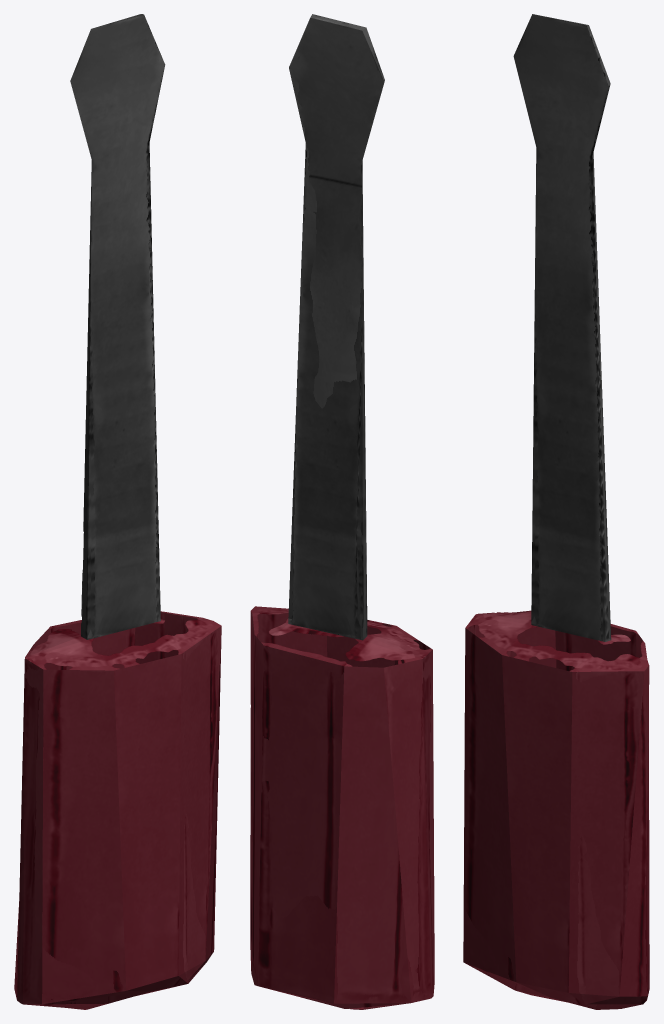
The model's file is ScrewDriver.fbx.
The picture shows the model from 3 angles, left to right: view 1: azimuth 30°, elevation 25°; view 2: azimuth 150°, elevation 25°; view 3: azimuth 330°, elevation 25°; orthographic projection.
Parts seen in each view (by area): view 1: Cube; view 2: Cube; view 3: Cube.
Part boxes in pixels (bbox=[...]): Cube: bbox=[14, 14, 221, 1009]; Cube: bbox=[250, 14, 434, 1009]; Cube: bbox=[463, 14, 649, 1009].
Bounding box in the file's own units: 17.34 × 85.55 × 10.09.
1 material, 1 textured.
